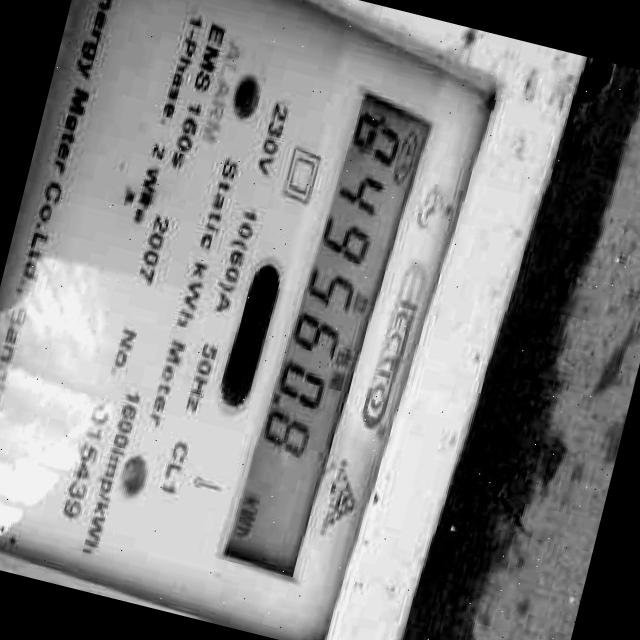LCD: (202, 68, 448, 597)
